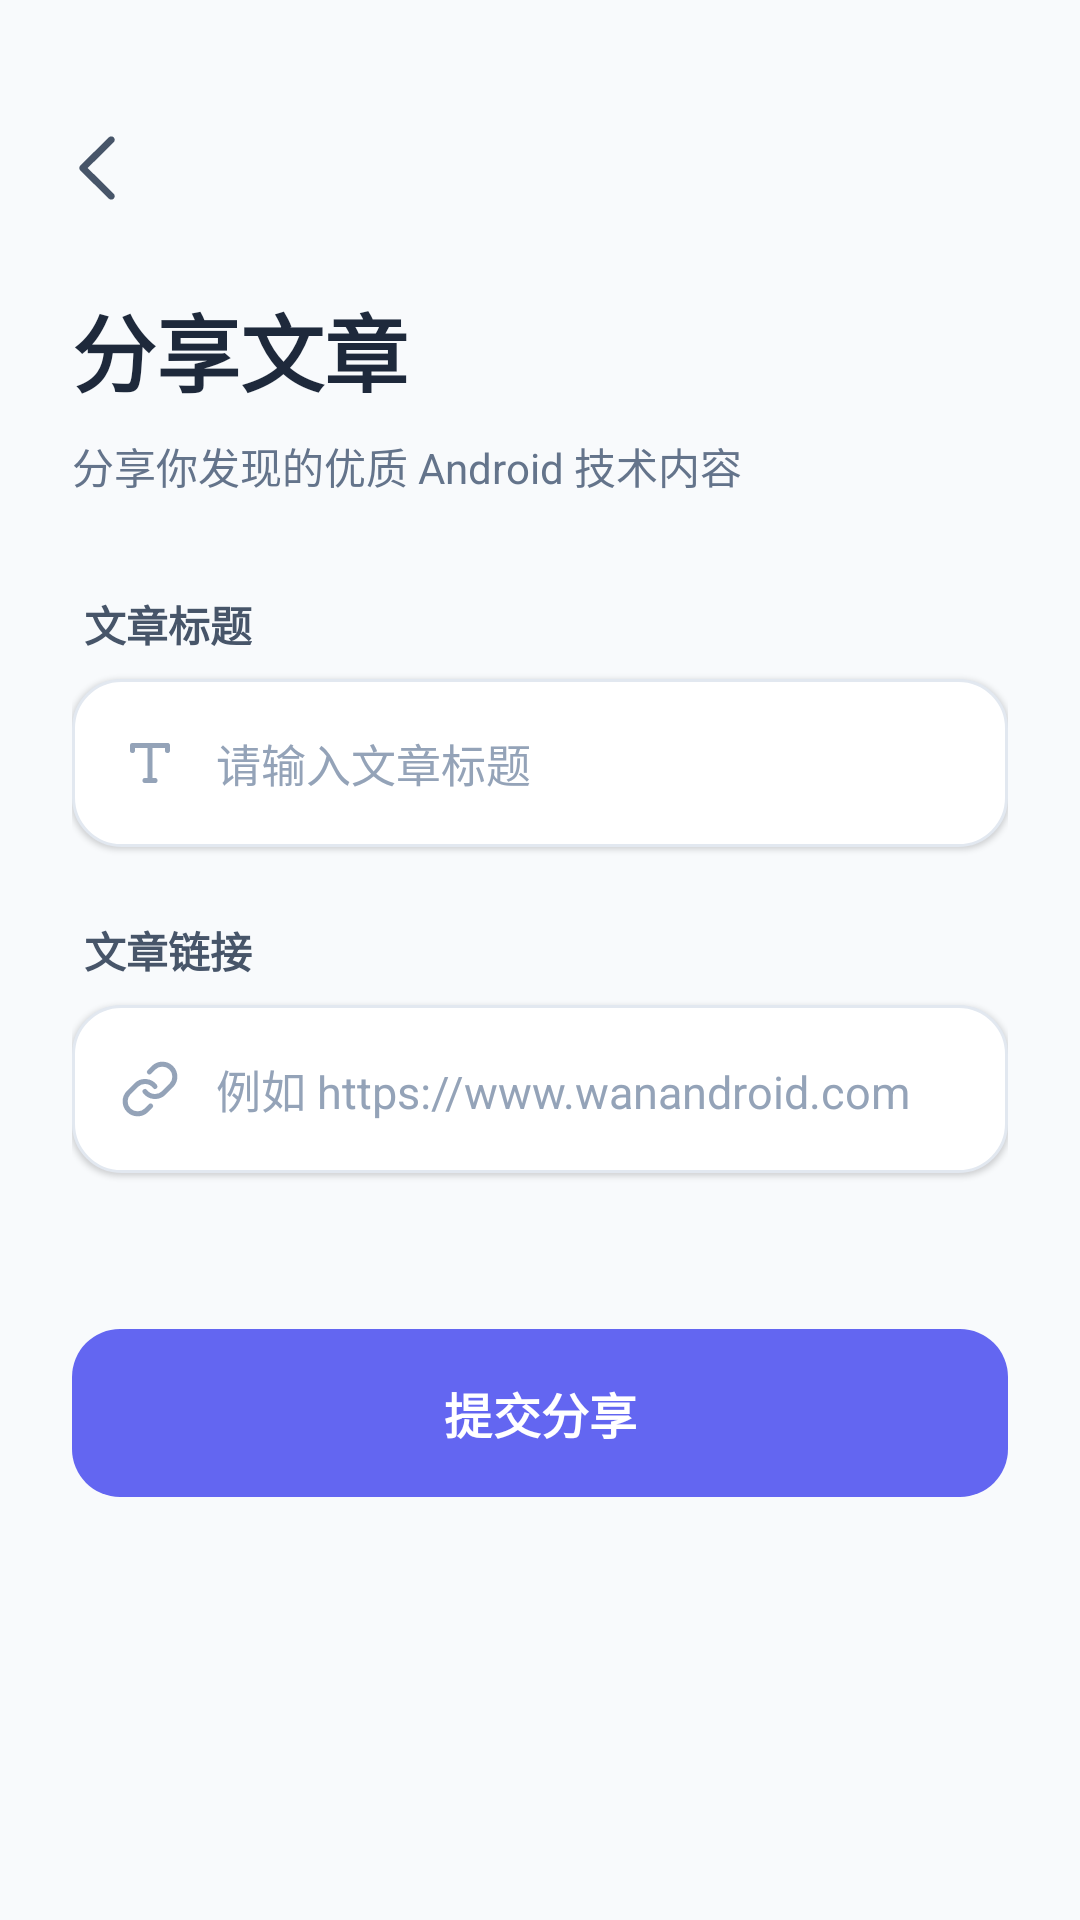

Locate icon controls on the screen. Image size 1080 × 1920, boxes as (x1, y1, x2, y2).
back: (79, 136, 115, 200)
